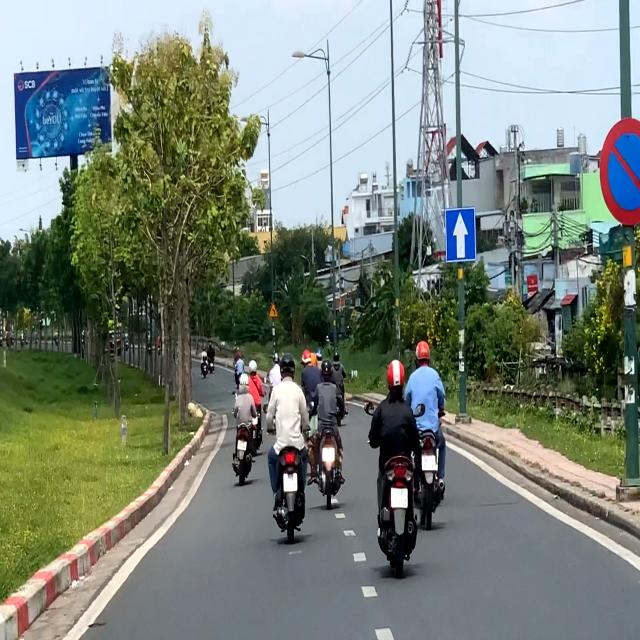P.131a: (599, 117, 640, 226)
R.407a: (444, 205, 477, 263)
W.201a: (268, 301, 279, 318)
